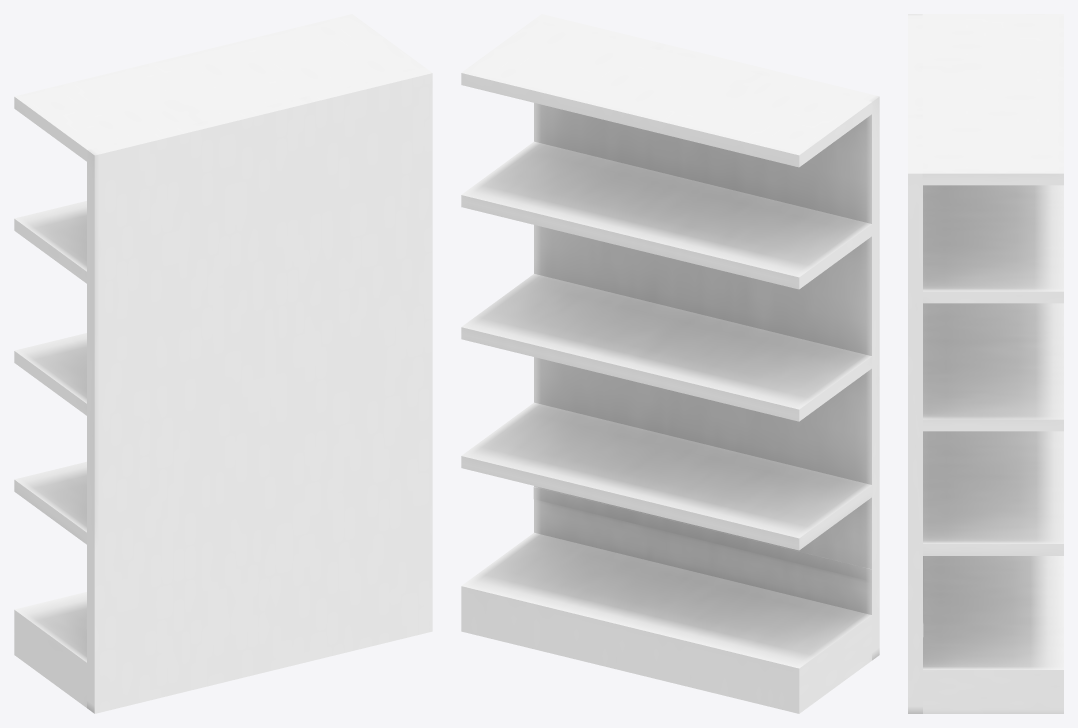
The model's file is ShelfFour.glb.
The picture shows the model from 3 angles, left to right: view 1: azimuth 30°, elevation 25°; view 2: azimuth 150°, elevation 25°; view 3: azimuth 270°, elevation 25°; orthographic projection. The views are drawn at different scales.
Parts seen in each view (by area): view 1: ShelfFour; view 2: ShelfFour; view 3: ShelfFour.
Boxes of the visible parts, x1=… form: ShelfFour: x1=14, y1=14, x2=432, y2=713; ShelfFour: x1=461, y1=14, x2=879, y2=713; ShelfFour: x1=908, y1=14, x2=1063, y2=713.
Bounding box in the file's own units: 1.27 × 2 × 0.5231.
Materials: 1 (1 with a texture image).
